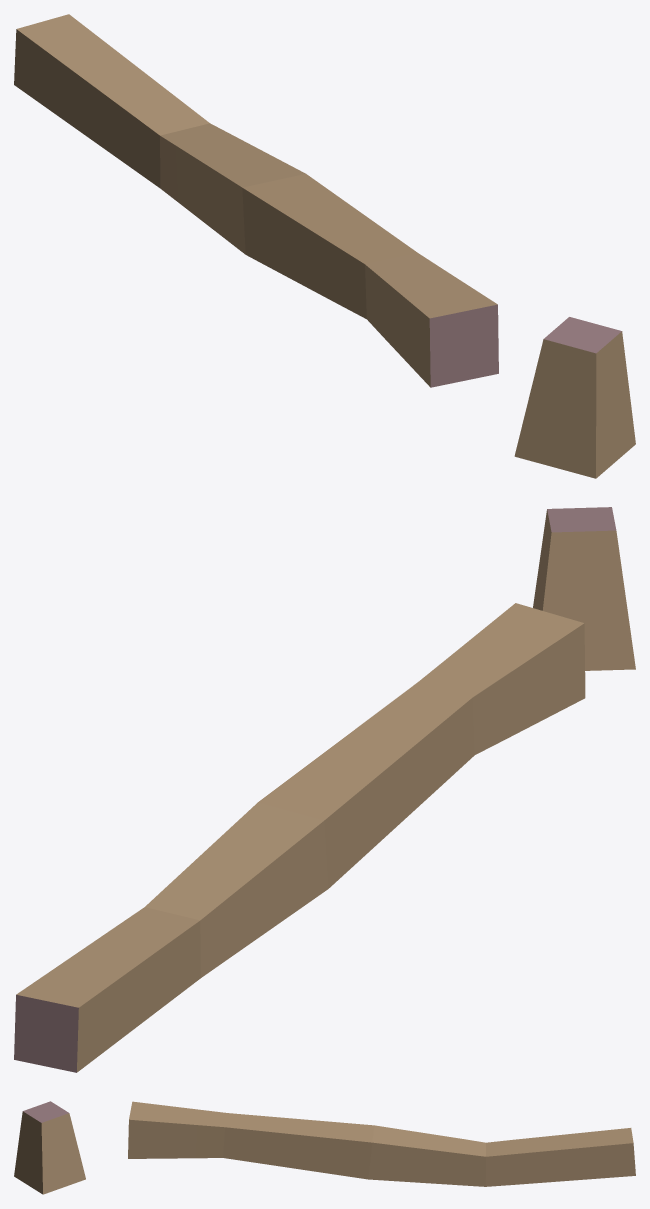
The model's file is FallenLog (3).fbx.
3 renders of one model, top to bottom at view 1: azimuth 30°, elevation 25°; view 2: azimuth 150°, elevation 25°; view 3: azimuth 270°, elevation 25°, orthographic. The views are drawn at different scales.
Visible parts, largest first — view 1: Cube.003, Cube.004; view 2: Cube.003, Cube.004; view 3: Cube.003, Cube.004.
Part boxes in pixels (box(x1,y1,x2,y2)): Cube.003: box(14, 14, 498, 387); Cube.004: box(514, 317, 635, 478); Cube.003: box(14, 603, 585, 1072); Cube.004: box(533, 507, 635, 670); Cube.003: box(128, 1101, 635, 1186); Cube.004: box(14, 1101, 85, 1194).
Bounding box in the file's own units: 1109 × 1046 × 8125.
